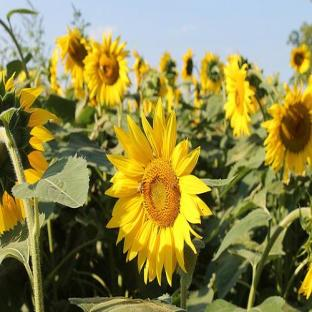sunflower: (105, 97, 212, 287)
